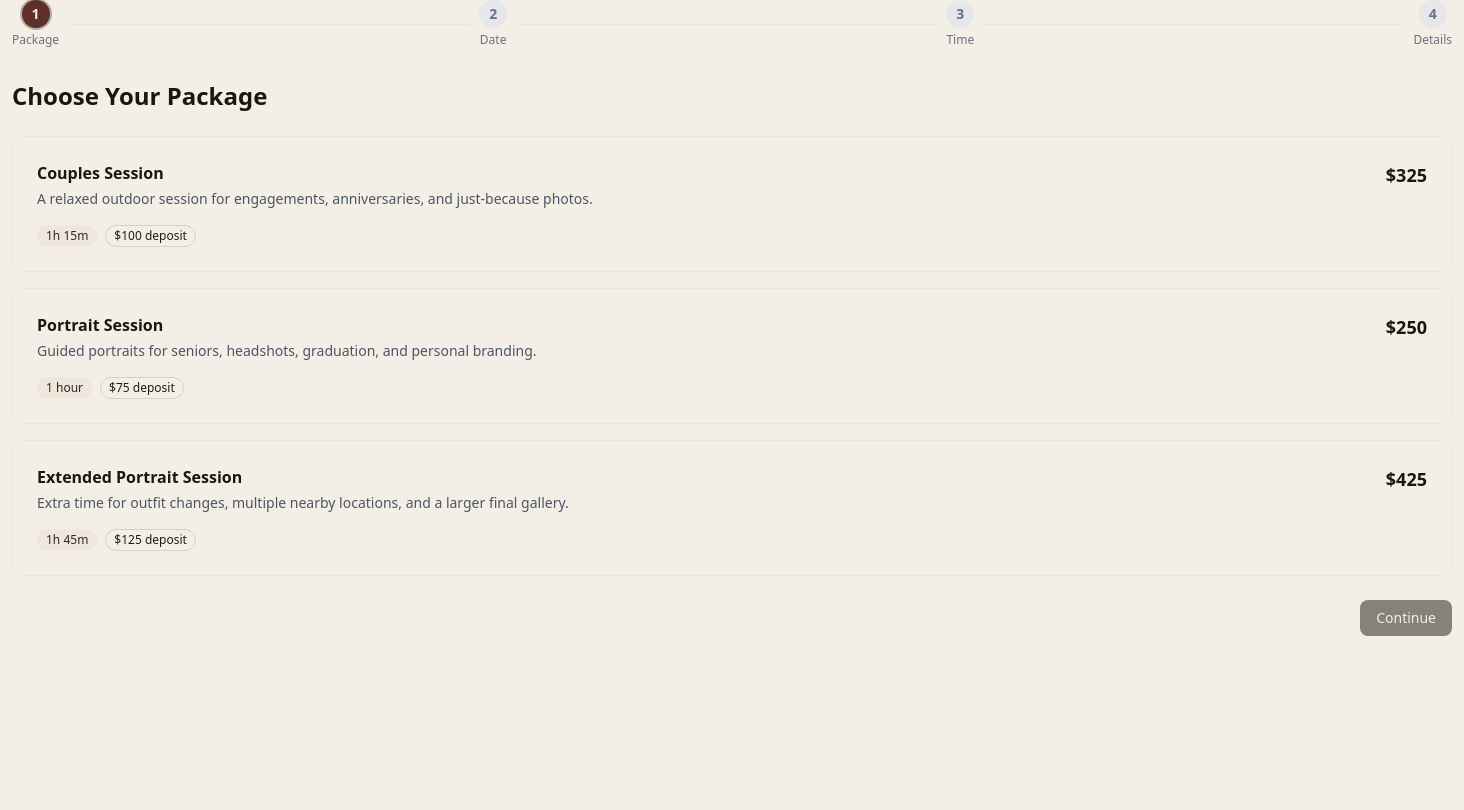
Test case: PhotographyBookingForm — PHOTO-03: multi-step booking flow › advances from step 2 to step 3 (time) when a date is selected
Step 1. Click the heading "Portrait Session" → [100, 325], box [37,314,163,336]
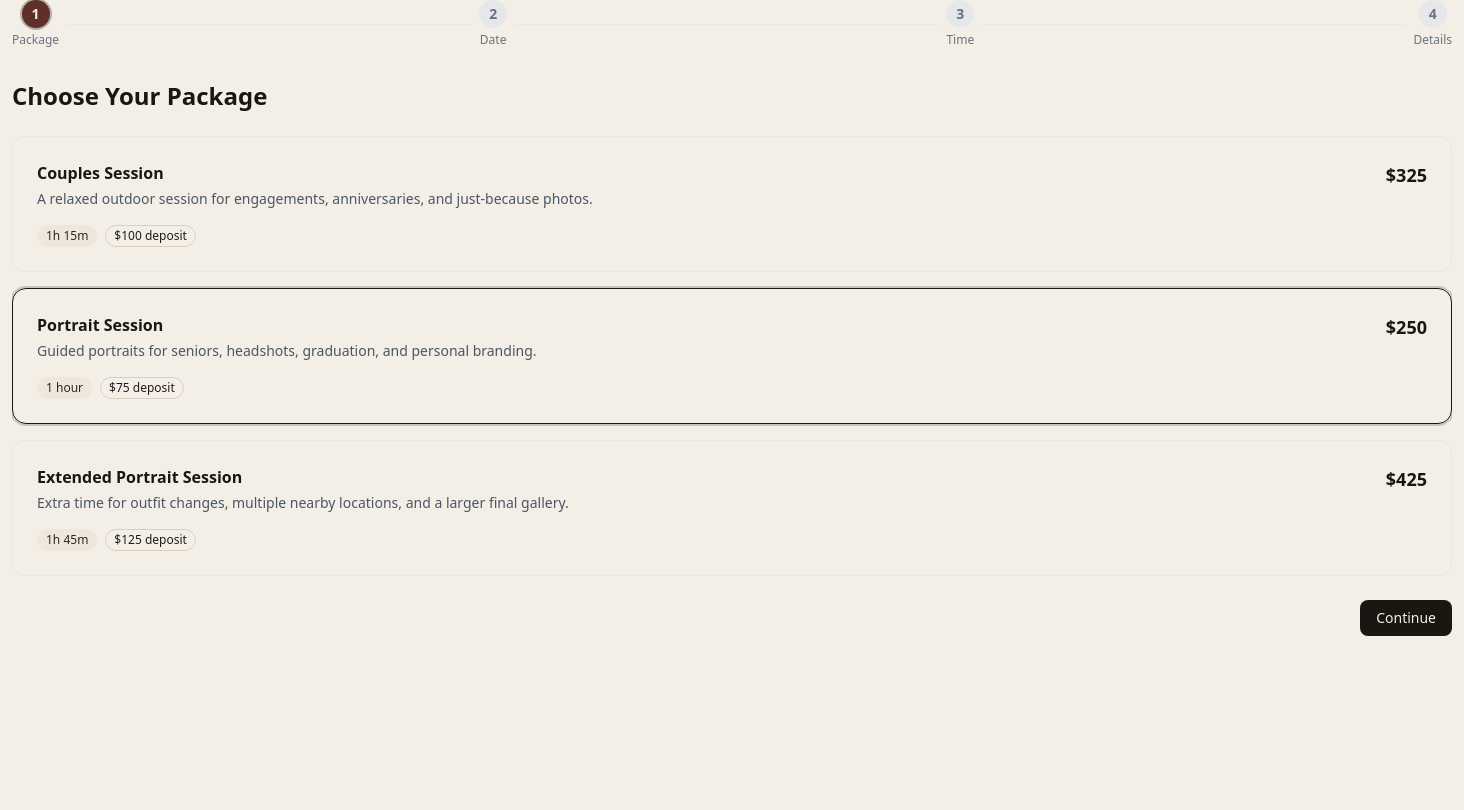
Step 2. Click the button "Continue" → [1406, 618], box [1360,600,1452,636]
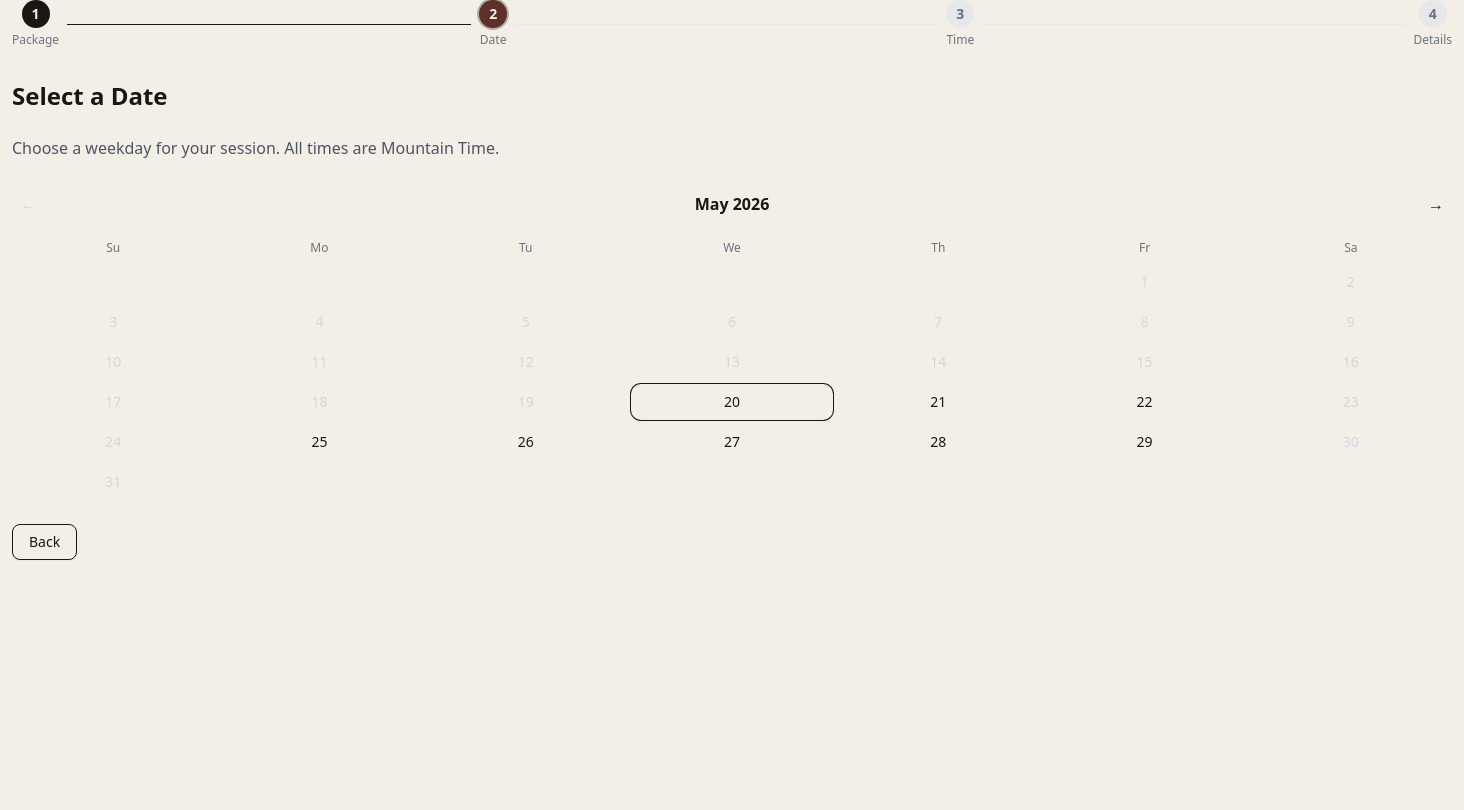
Step 3. Click the button "20" → [732, 402], box [631,384,833,420]
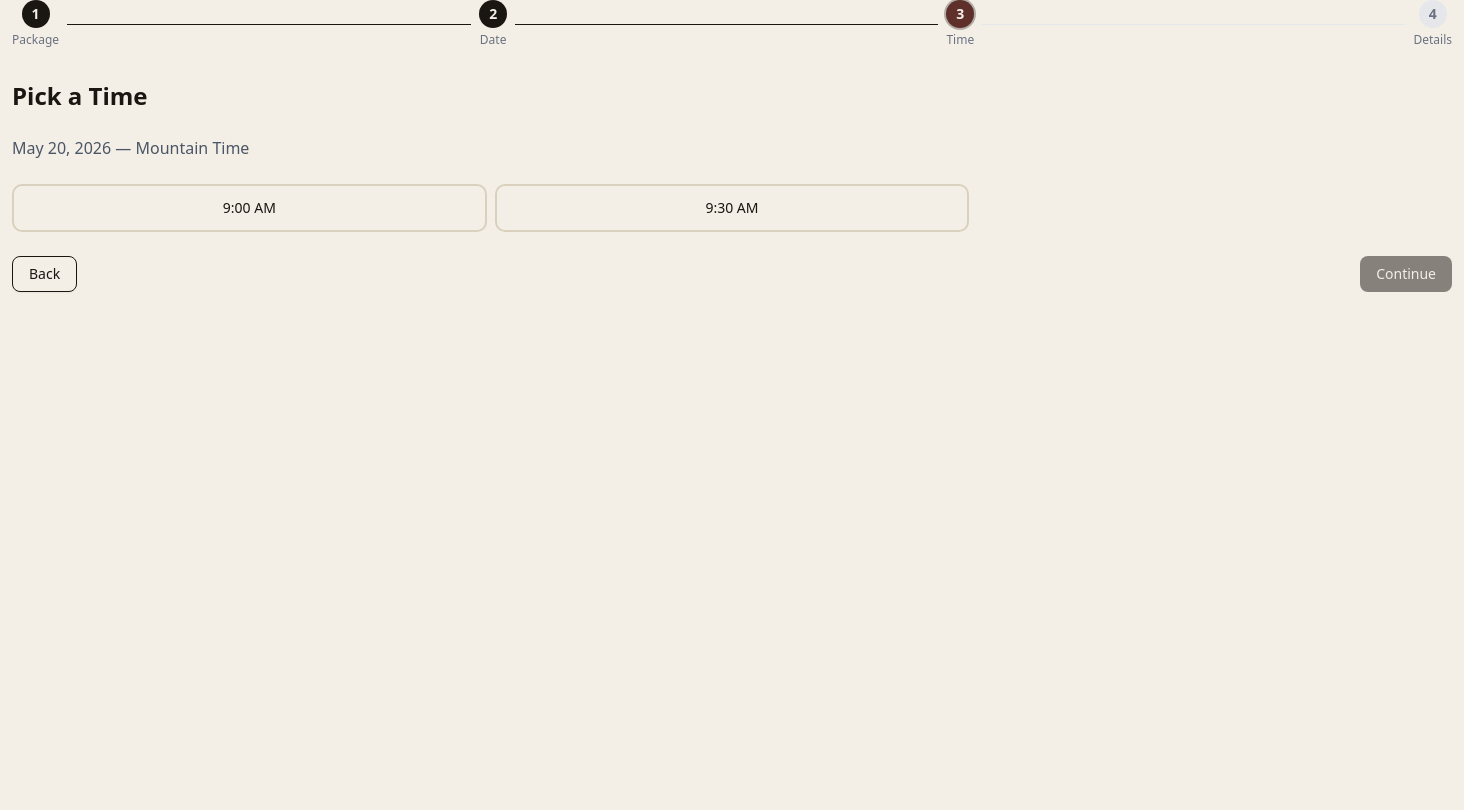
Expected: the heading "Pick a Time" is shown, [12,79,148,112]
